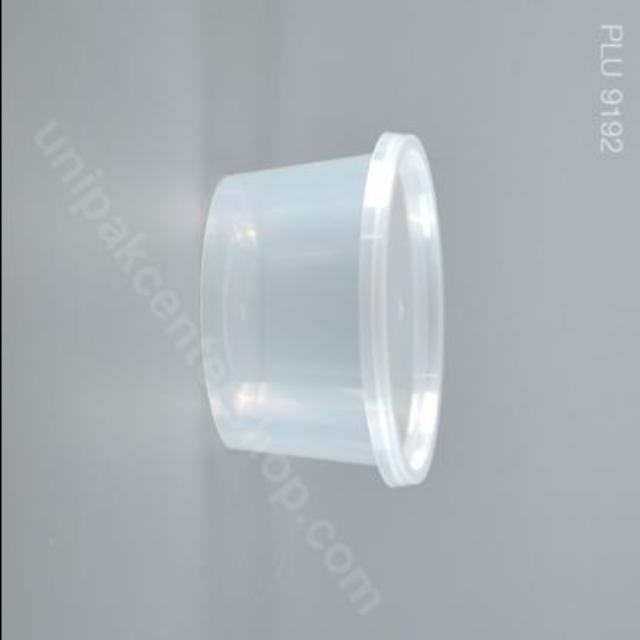plastic_box: (201, 133, 441, 489)
